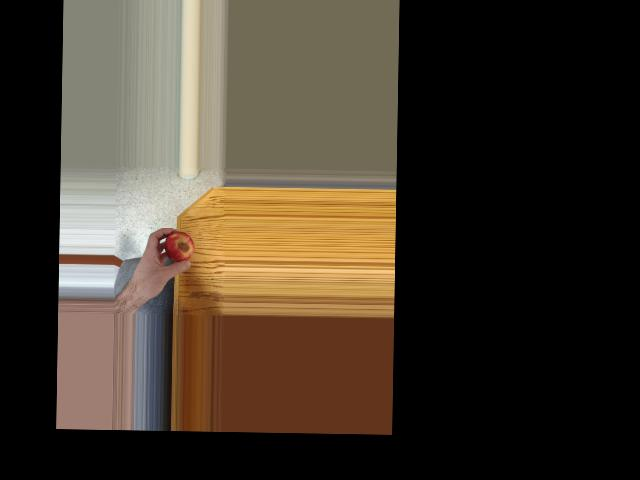apple: (164, 229, 194, 264)
